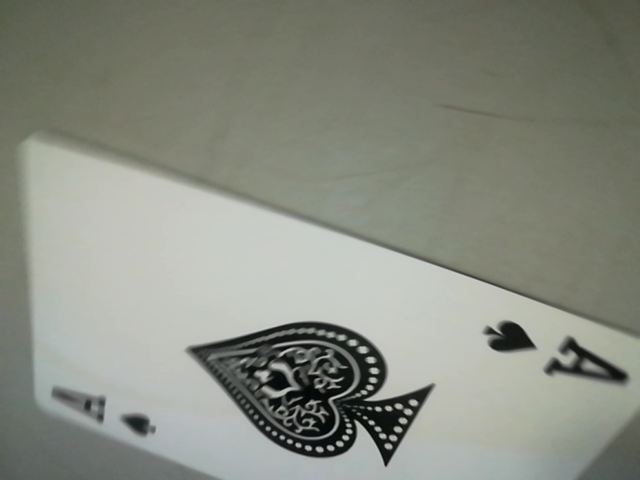ht a: (467, 308, 640, 393), (30, 380, 187, 451)
